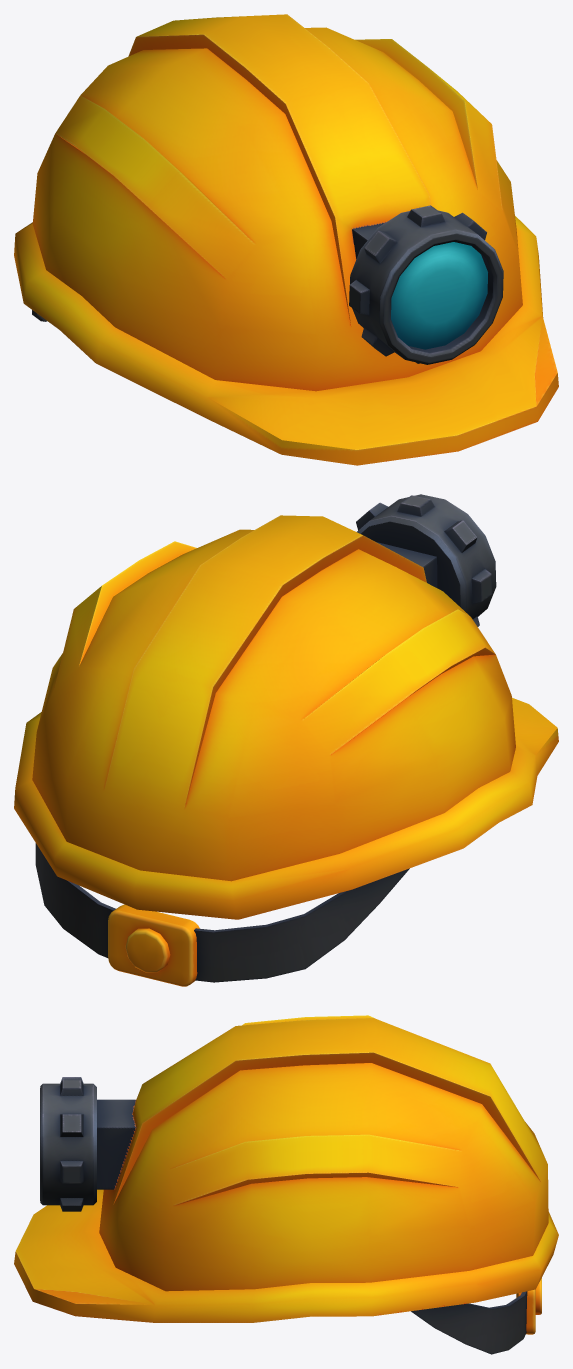
Rendered from Hard_Hat.glb.
3 views of the same model, one above another, from view 1: azimuth 30°, elevation 25°; view 2: azimuth 150°, elevation 25°; view 3: azimuth 270°, elevation 25° (orthographic). The views are drawn at different scales.
Parts seen in each view (by area): view 1: Hard_Hat; view 2: Hard_Hat; view 3: Hard_Hat.
Part boxes in pixels (<box>): Hard_Hat: <box>14,14,558,465</box>; Hard_Hat: <box>14,494,558,986</box>; Hard_Hat: <box>14,1015,558,1354</box>.
Bounding box in the file's own units: 0.532 × 0.3955 × 0.6671.
Materials: 1 (1 with a texture image).
